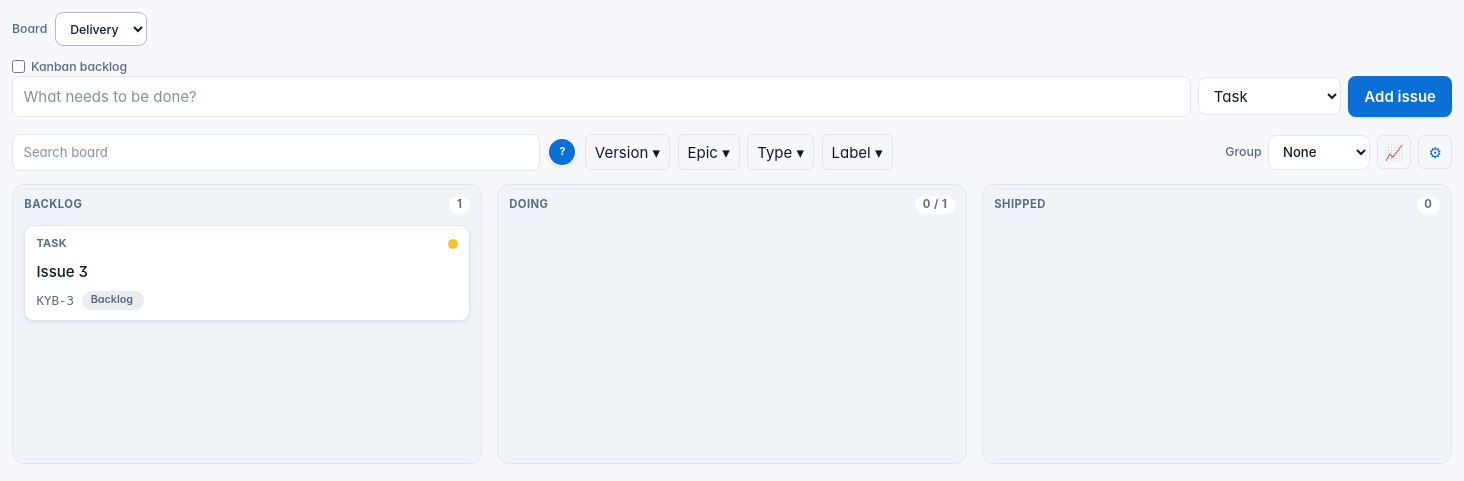
Test: Boards with WIP limits (KYB-S44) › switches between boards
Expected: the element "Doing" is shown, [497,184,967,464]
Select "Triage" in the dropdown labelled "Board": [101, 29] box [55,12,147,46]
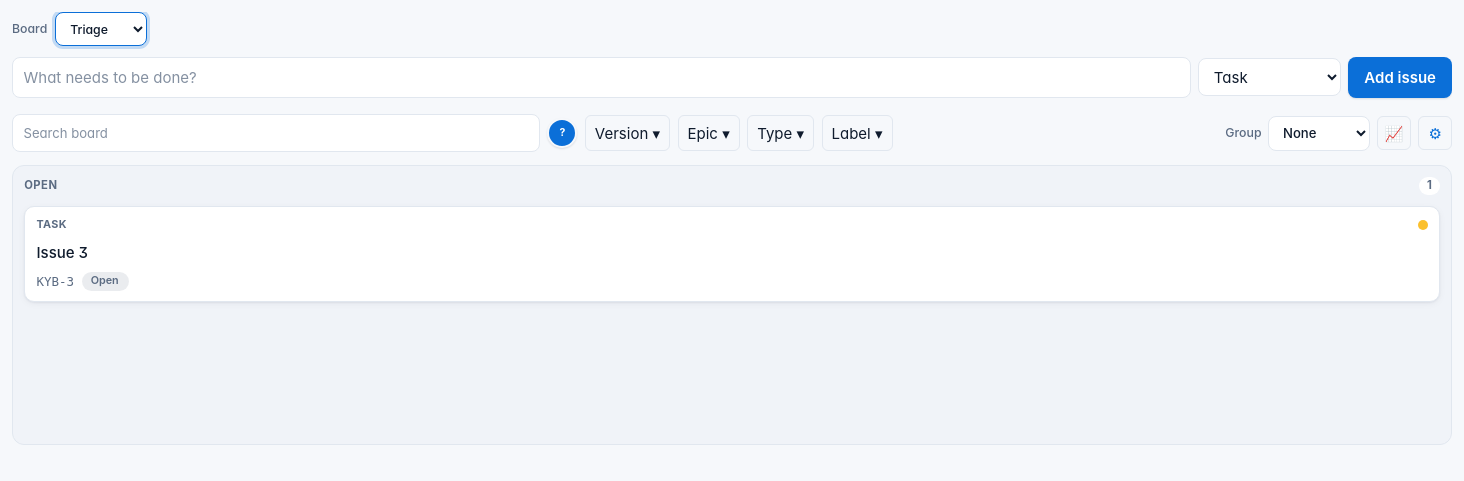
Expected: the element "Open" is shown, [12,165,1452,445]
Expected: the heading "Doing" is gone
